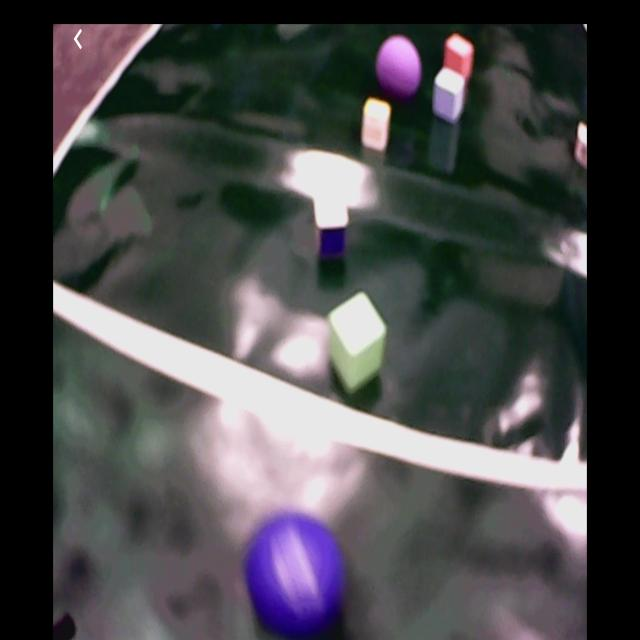ball: (245, 512, 348, 640), (376, 36, 421, 98)
